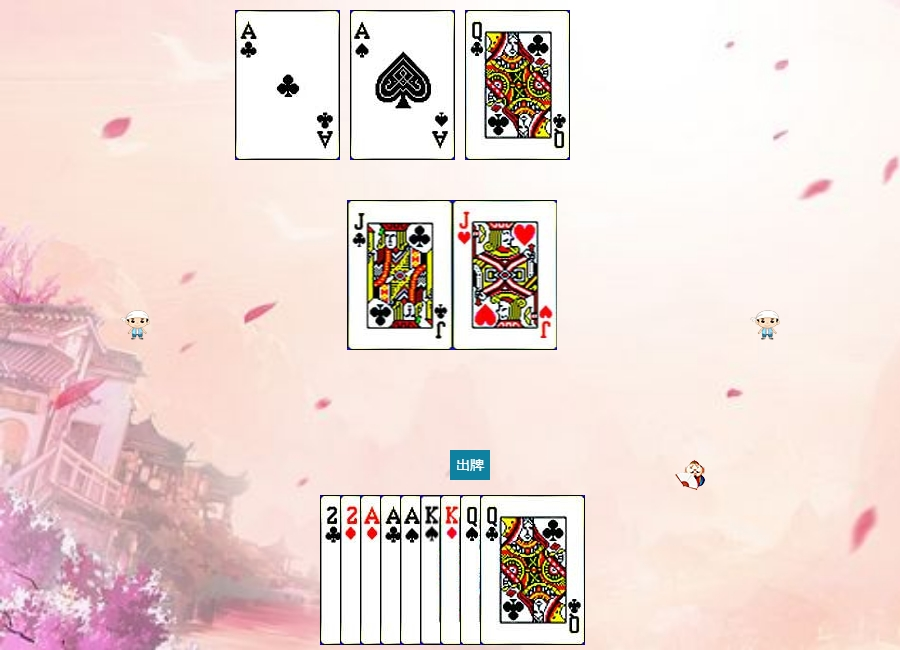11~2: (348, 200, 453, 350)
11~3: (453, 200, 558, 350)
12~2: (465, 10, 570, 160), (480, 495, 585, 645)
12~4: (460, 495, 565, 645)
13~1: (440, 495, 545, 645)
13~4: (420, 495, 525, 645)
14~1: (360, 495, 465, 645)
14~2: (235, 10, 340, 160), (380, 495, 485, 645)
14~4: (350, 10, 455, 160), (400, 495, 505, 645)
15~1: (340, 495, 445, 645)
15~2: (320, 495, 425, 645)
